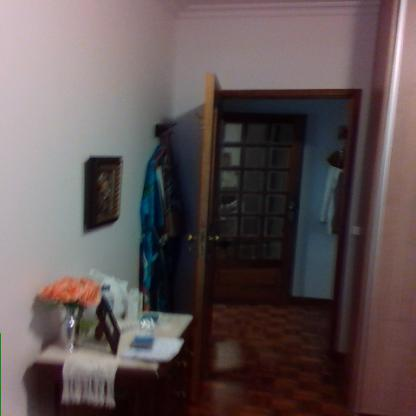open: (181, 64, 370, 392)
